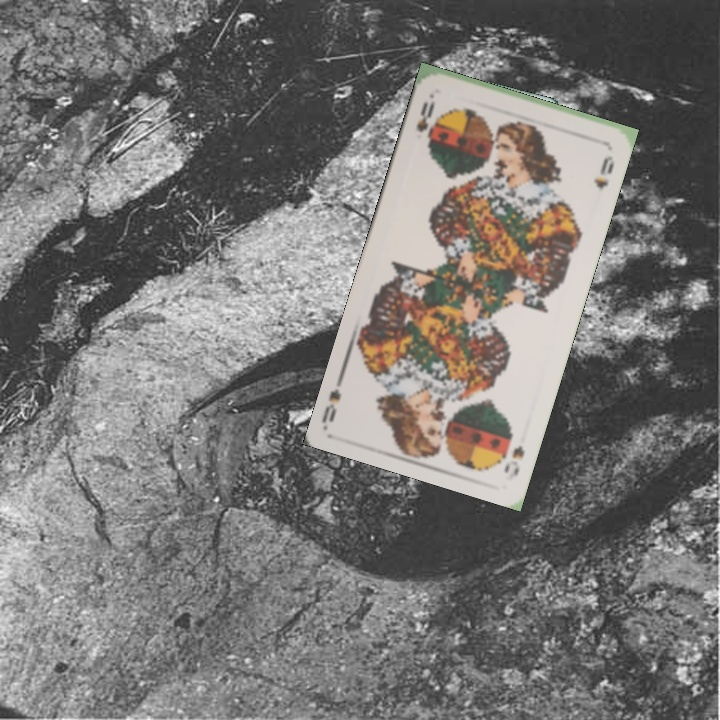SO: (500, 442, 527, 479), (412, 97, 438, 135)
